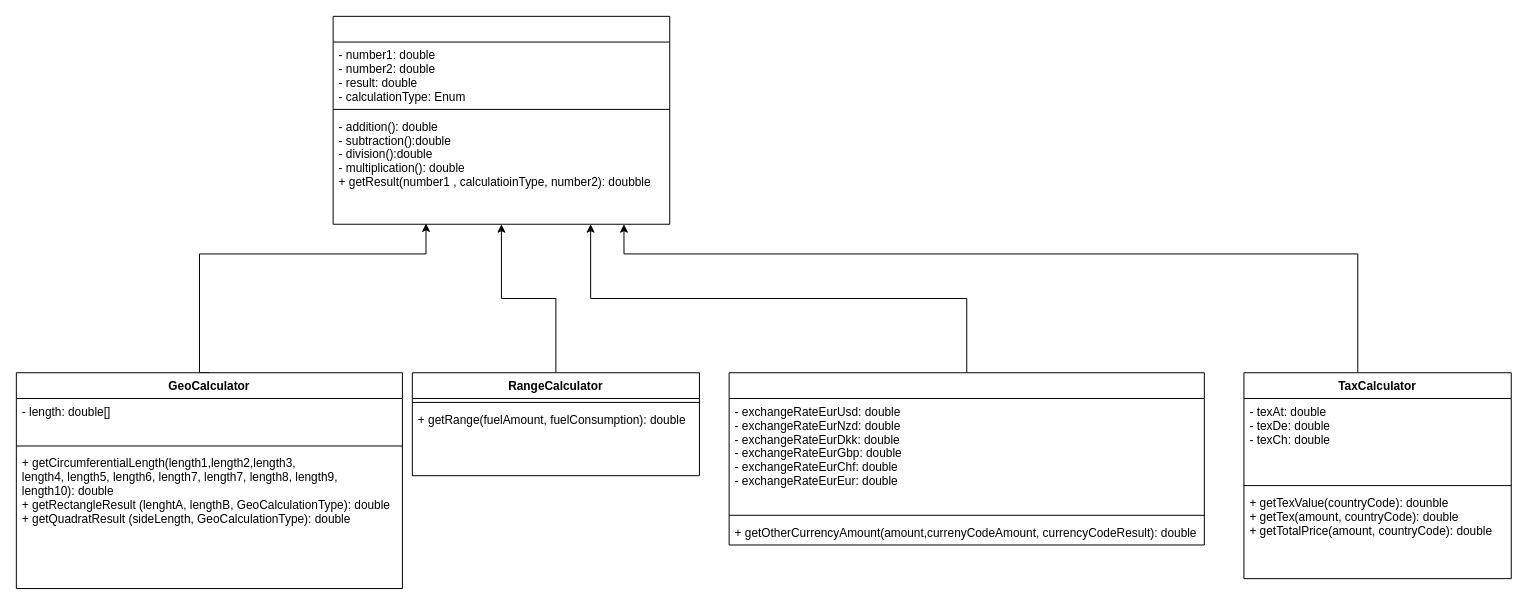
Some shapes in this 1528 by 605 pixel diagram are drawn without their labels. Each missing label, with the box of its shape:
Calculator: (332, 15, 670, 224)
CurrencyCalculator: (728, 372, 1204, 545)
